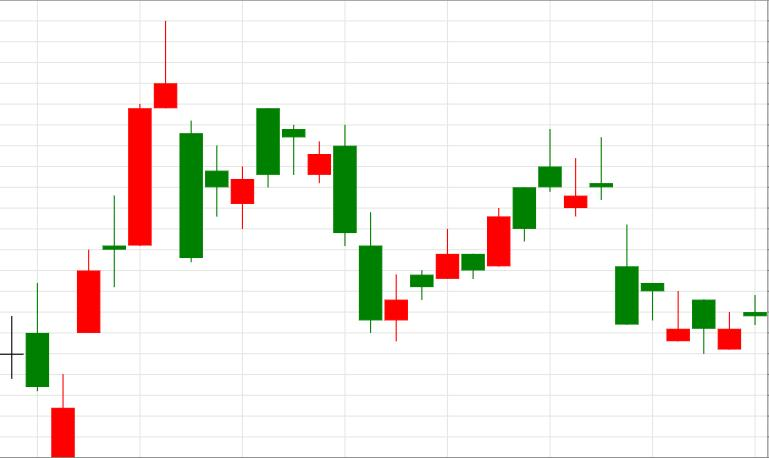shooting_star_fall: (51, 20, 178, 457), (384, 129, 562, 341)
